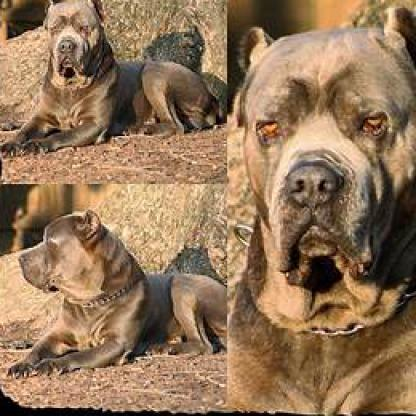dog: (230, 6, 416, 413), (6, 210, 226, 379), (1, 0, 220, 162)
